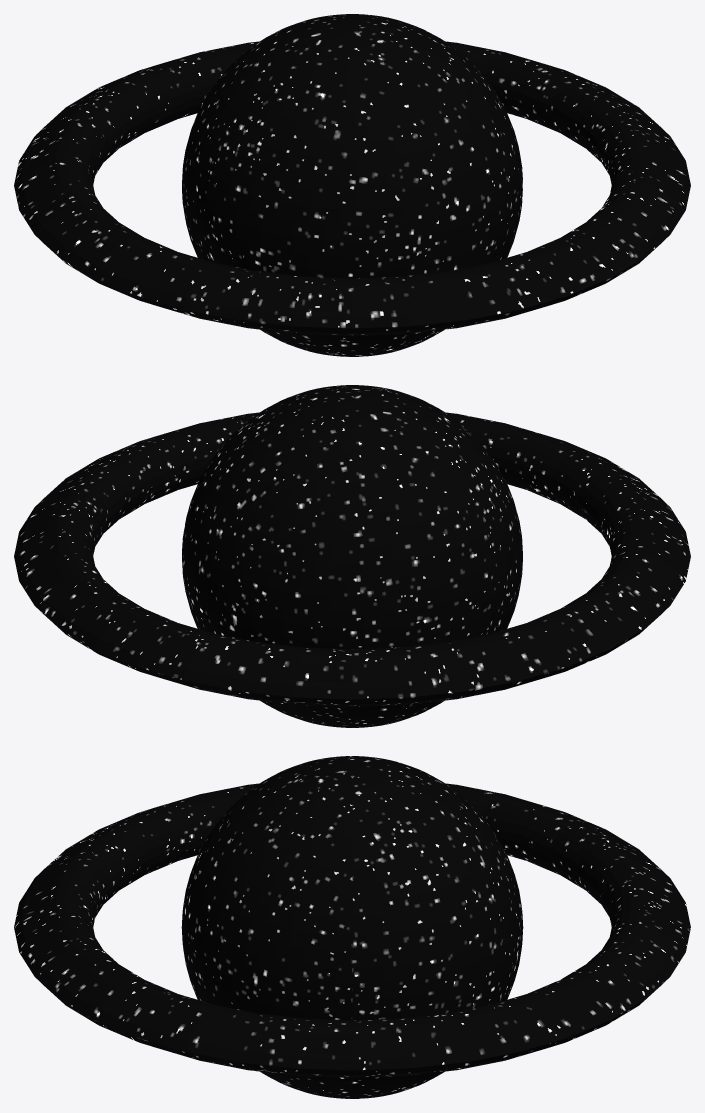
The model's file is blackhole.fbx.
3 renders of one model, top to bottom at view 1: azimuth 30°, elevation 25°; view 2: azimuth 150°, elevation 25°; view 3: azimuth 270°, elevation 25°, orthographic.
Visible parts, largest first — view 1: Sphere, Torus; view 2: Sphere, Torus; view 3: Sphere, Torus.
Part boxes in pixels (left/top/right/bottom): Sphere: left=182, top=14, right=522, bottom=356; Torus: left=14, top=41, right=690, bottom=335; Sphere: left=182, top=385, right=522, bottom=727; Torus: left=14, top=412, right=690, bottom=706; Sphere: left=181, top=756, right=523, bottom=1098; Torus: left=14, top=783, right=690, bottom=1077.
Size of the model in its own units: 39.15 by 19.95 by 39.15.
